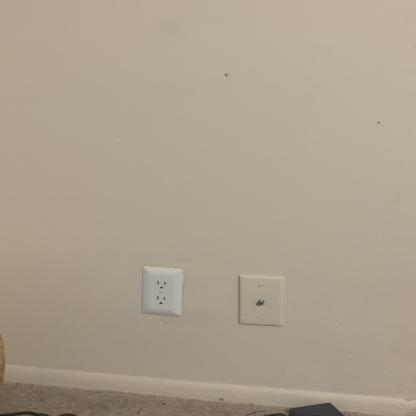OUTLET: (140, 264, 183, 314)
